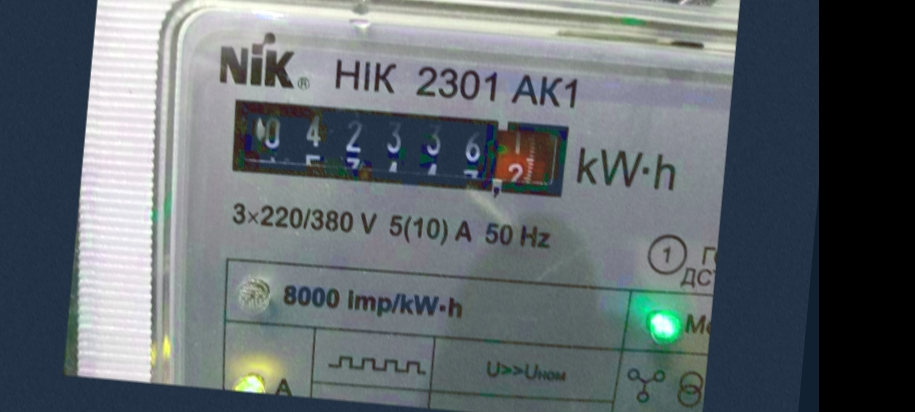0: (260, 113, 283, 149)
1: (508, 126, 524, 156)
2: (341, 116, 364, 154), (503, 160, 523, 183)
3: (420, 119, 443, 157), (382, 116, 404, 155)
4: (301, 109, 323, 148)
6: (458, 126, 483, 163)
screen: (219, 84, 578, 209)
